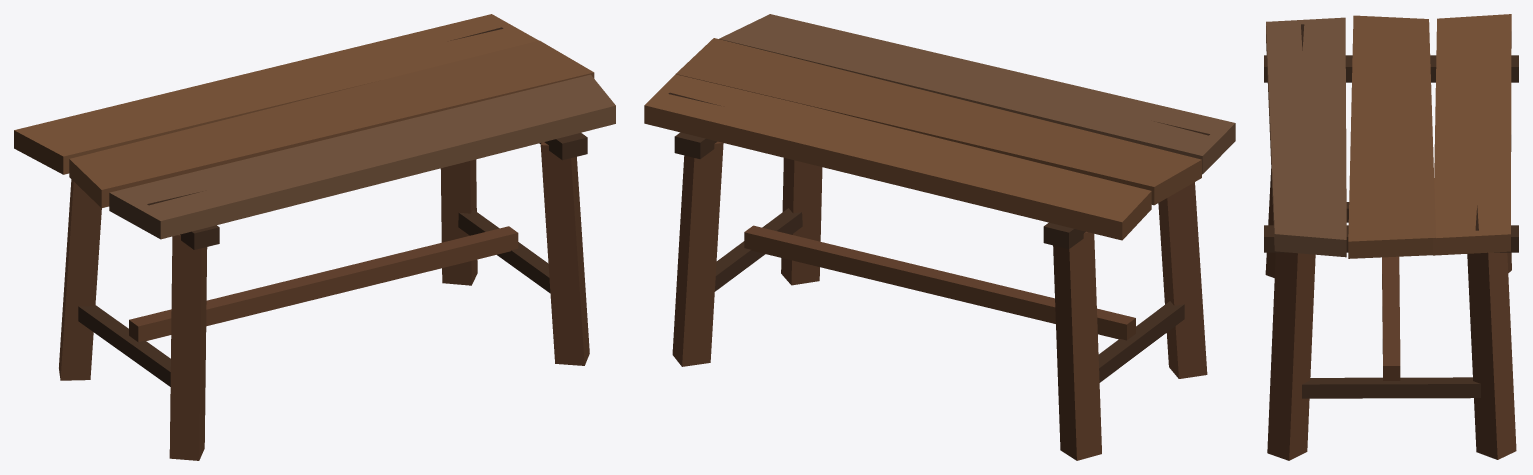
File: tl_furn_table_v01.glb
3 renders of one model, left to right at view 1: azimuth 30°, elevation 25°; view 2: azimuth 150°, elevation 25°; view 3: azimuth 270°, elevation 25°, orthographic. The views are drawn at different scales.
Visible parts, largest first — view 1: tl_furn_table_v01; view 2: tl_furn_table_v01; view 3: tl_furn_table_v01.
Boxes of the visible parts, x1,y1,x2,y2 form: tl_furn_table_v01: [14, 14, 615, 460]; tl_furn_table_v01: [644, 14, 1235, 460]; tl_furn_table_v01: [1264, 14, 1518, 460].
Bounding box in the file's own units: 1.56 × 0.752 × 0.735.
